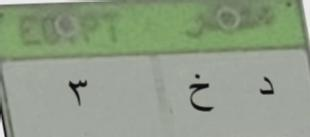3: (64, 75, 91, 108)
daal: (253, 70, 277, 102)
khaa: (185, 69, 217, 119)
